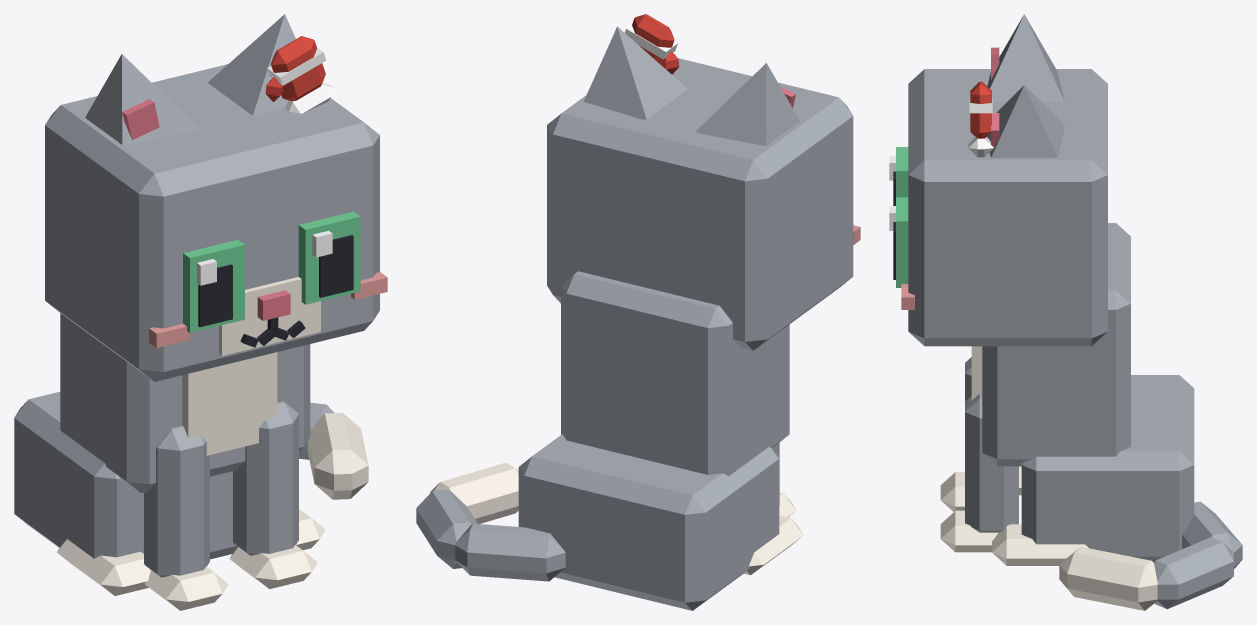
File: CatCafe_Cat_Mitten_Sit.glb
The picture shows the model from 3 angles, left to right: view 1: azimuth 30°, elevation 25°; view 2: azimuth 150°, elevation 25°; view 3: azimuth 270°, elevation 25°; orthographic projection. The views are drawn at different scales.
Visible parts, largest first — view 1: CatCafe_Cat_Mitten_Sit_Head, CatCafe_Cat_Mitten_Sit_Body, CatCafe_Cat_Mitten_Sit_LegF2, CatCafe_Cat_Mitten_Sit_LegF1, CatCafe_Cat_Mitten_Sit_EarR, CatCafe_Cat_Mitten_Sit_Eye1, CatCafe_Cat_Mitten_Sit_Eye2, CatCafe_Cat_Mitten_Sit_Tail, CatCafe_Cat_Mitten_Sit_EarL, CatCafe_Cat_Mitten_Sit_Prop; view 2: CatCafe_Cat_Mitten_Sit_Body, CatCafe_Cat_Mitten_Sit_Head, CatCafe_Cat_Mitten_Sit_Tail, CatCafe_Cat_Mitten_Sit_EarL, CatCafe_Cat_Mitten_Sit_EarR, CatCafe_Cat_Mitten_Sit_Prop; view 3: CatCafe_Cat_Mitten_Sit_Head, CatCafe_Cat_Mitten_Sit_Body, CatCafe_Cat_Mitten_Sit_Tail, CatCafe_Cat_Mitten_Sit_LegF1, CatCafe_Cat_Mitten_Sit_EarR, CatCafe_Cat_Mitten_Sit_EarL, CatCafe_Cat_Mitten_Sit_Prop, CatCafe_Cat_Mitten_Sit_Eye1, CatCafe_Cat_Mitten_Sit_LegF2, CatCafe_Cat_Mitten_Sit_Eye2.
Part boxes in pixels (<box>): CatCafe_Cat_Mitten_Sit_Head: <box>45,64,387,381</box>; CatCafe_Cat_Mitten_Sit_Body: <box>14,313,325,595</box>; CatCafe_Cat_Mitten_Sit_LegF2: <box>144,426,228,610</box>; CatCafe_Cat_Mitten_Sit_LegF1: <box>229,401,317,589</box>; CatCafe_Cat_Mitten_Sit_EarR: <box>85,54,198,144</box>; CatCafe_Cat_Mitten_Sit_Eye1: <box>298,211,360,304</box>; CatCafe_Cat_Mitten_Sit_Eye2: <box>183,240,244,332</box>; CatCafe_Cat_Mitten_Sit_Tail: <box>299,402,368,499</box>; CatCafe_Cat_Mitten_Sit_EarL: <box>207,14,295,115</box>; CatCafe_Cat_Mitten_Sit_Prop: <box>265,36,334,113</box>; CatCafe_Cat_Mitten_Sit_Body: <box>518,271,803,610</box>; CatCafe_Cat_Mitten_Sit_Head: <box>547,58,860,350</box>; CatCafe_Cat_Mitten_Sit_Tail: <box>416,462,565,581</box>; CatCafe_Cat_Mitten_Sit_EarL: <box>584,26,687,119</box>; CatCafe_Cat_Mitten_Sit_EarR: <box>696,63,799,145</box>; CatCafe_Cat_Mitten_Sit_Prop: <box>625,14,679,74</box>; CatCafe_Cat_Mitten_Sit_Head: <box>901,69,1107,346</box>; CatCafe_Cat_Mitten_Sit_Body: <box>971,223,1194,565</box>; CatCafe_Cat_Mitten_Sit_Tail: <box>1059,501,1242,610</box>; CatCafe_Cat_Mitten_Sit_LegF1: <box>940,393,1018,552</box>; CatCafe_Cat_Mitten_Sit_EarR: <box>987,14,1064,101</box>; CatCafe_Cat_Mitten_Sit_EarL: <box>987,85,1064,157</box>; CatCafe_Cat_Mitten_Sit_Prop: <box>968,81,993,157</box>; CatCafe_Cat_Mitten_Sit_Eye1: <box>889,197,908,287</box>; CatCafe_Cat_Mitten_Sit_LegF2: <box>940,357,971,511</box>; CatCafe_Cat_Mitten_Sit_Eye2: <box>889,147,908,205</box>.
Size of the model in its own units: 1.24 by 1.85 by 1.24.
Materials: 1 (1 with a texture image).
